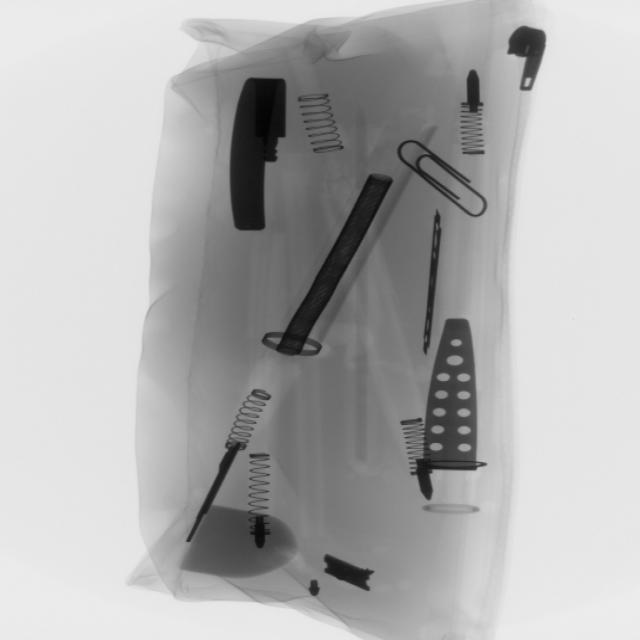SHURIKEN: (413, 209, 455, 361)
